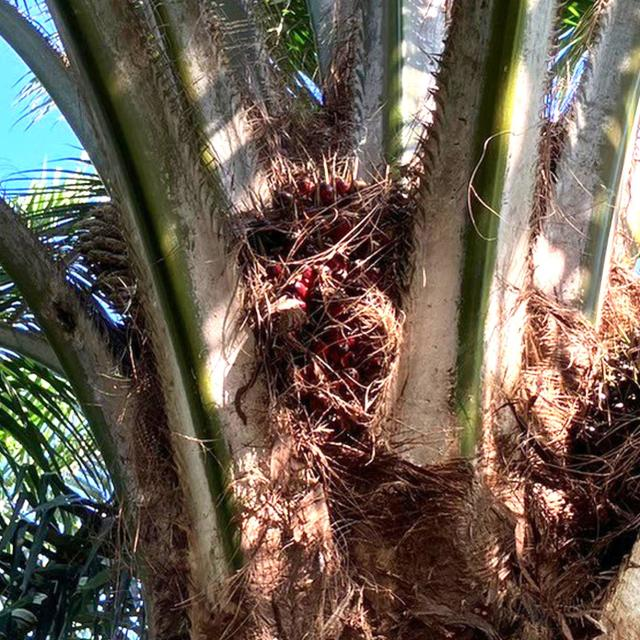ripe: (228, 143, 421, 424)
